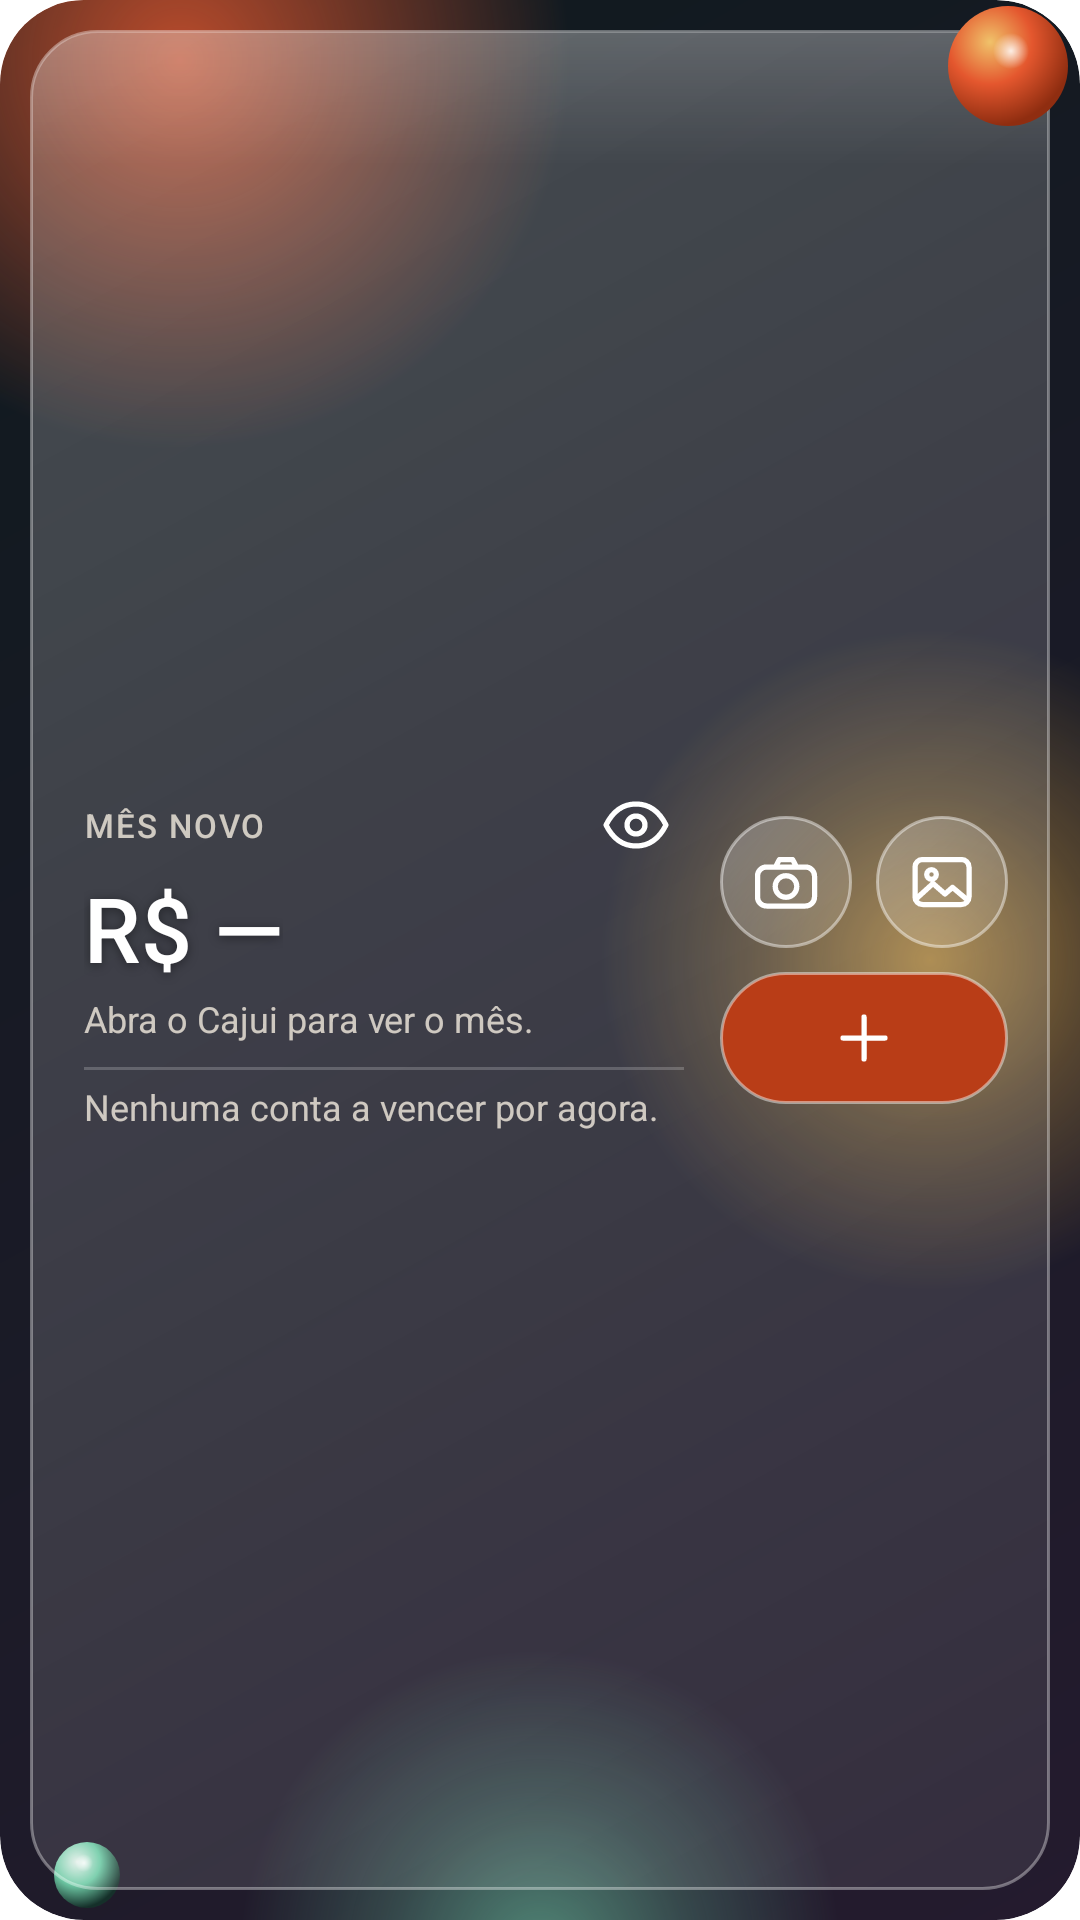

Point at icon controls on the screen. Image size 1080px×1920px, points as [x,y].
Escolher da galeria: [942,882]
Esconder os valores: [636,825]
Fotografar comprovante: [786,882]
home widget orb: [1008,66], [87,1875]
Novo gasto: [864,1038]
